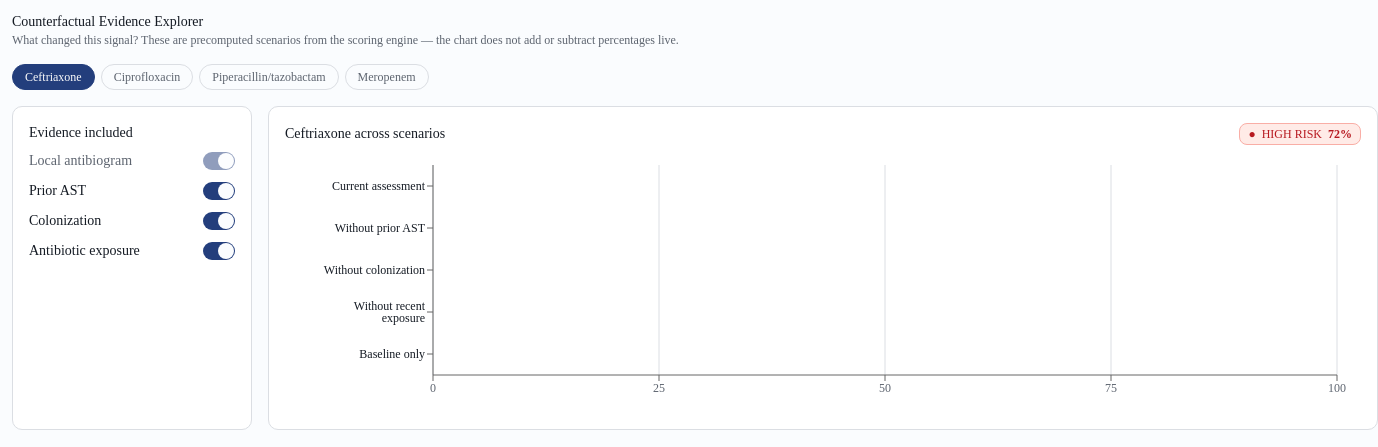
Test: CounterfactualExplorer › switches the inspected drug when a drug chip is selected
Click the button "Meropenem".
click(387, 77)  # box left=345, top=64, right=429, bottom=90
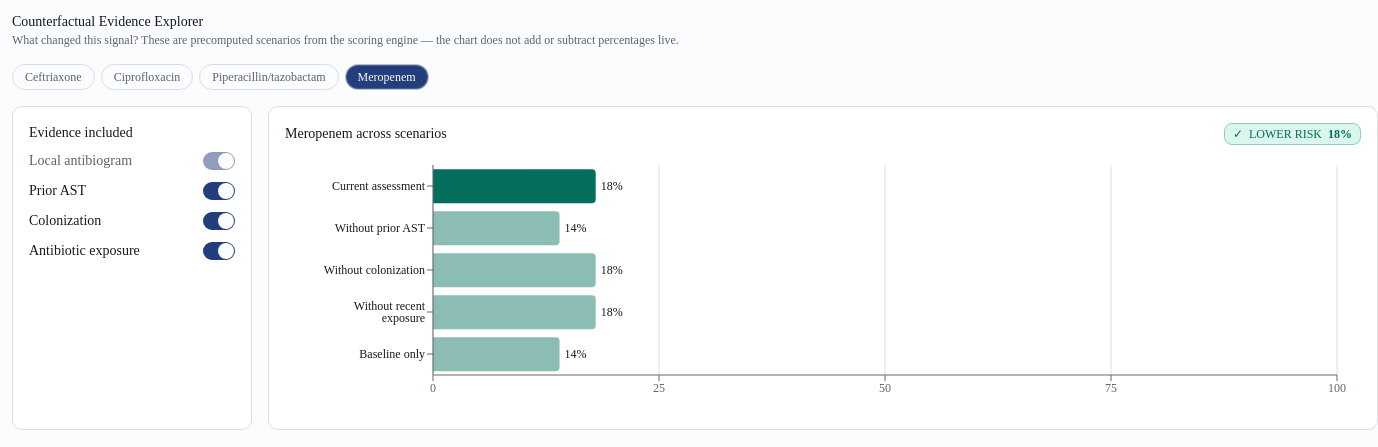
Check: the text "Meropenem across scenarios" is shown, box left=285, top=124, right=447, bottom=144
